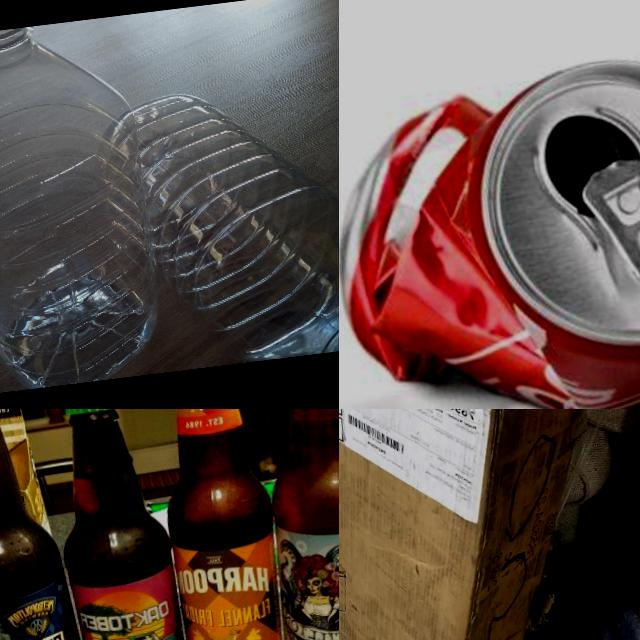aba de lata: (578, 150, 640, 290)
garrafa de vidro: (44, 409, 193, 640), (145, 409, 293, 640), (240, 409, 339, 640), (0, 409, 98, 640)
garrafa plástica: (93, 70, 339, 376), (0, 14, 165, 400)
lata: (339, 41, 640, 409)
papelão: (339, 409, 640, 640)
